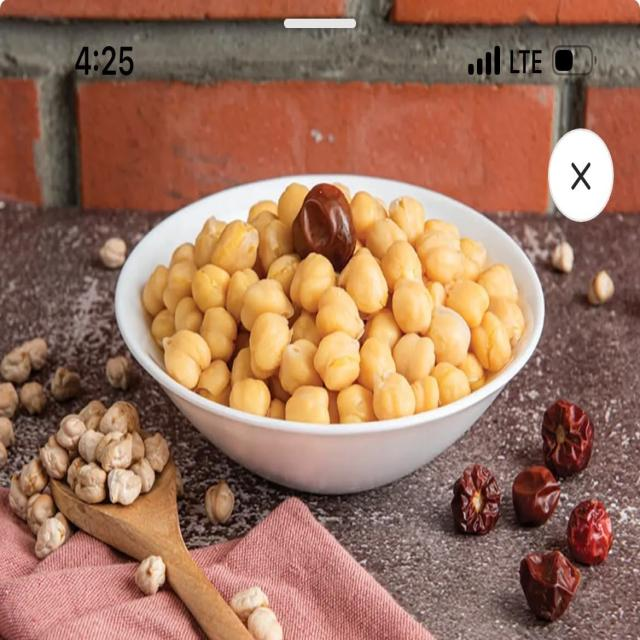Nakhi: (144, 168, 528, 426)
